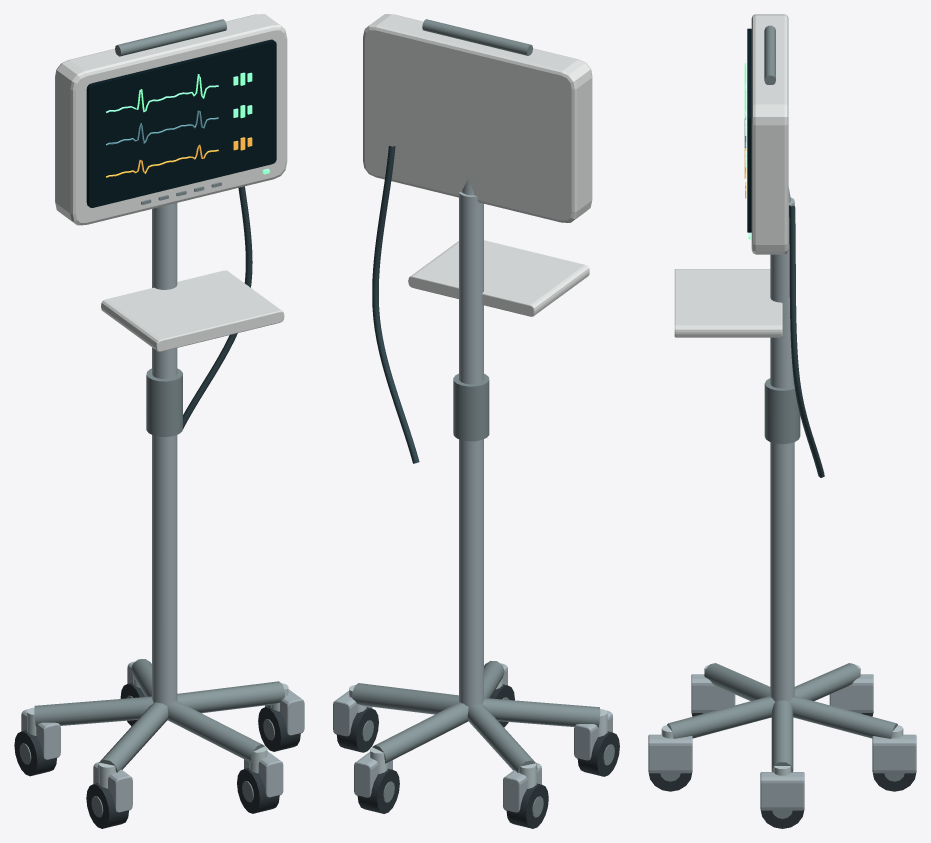
Rendered from monitor.glb.
3 views of the same model, side by side, from view 1: azimuth 30°, elevation 25°; view 2: azimuth 150°, elevation 25°; view 3: azimuth 270°, elevation 25° (orthographic). The views are drawn at different scales.
Parts seen in each view (by area): view 1: monitor-batch (×7), simulated-monitor-display, monitor; view 2: monitor-batch (×5), monitor; view 3: monitor-batch (×4), monitor, simulated-monitor-display.
Boxes of the visible parts, x1,y1,x2,y2 form: monitor-batch (×7): [14, 14, 304, 828]; simulated-monitor-display: [86, 39, 276, 207]; monitor: [106, 110, 252, 429]; monitor-batch (×5): [333, 14, 619, 828]; monitor: [372, 146, 419, 463]; monitor-batch (×4): [648, 14, 916, 828]; monitor: [744, 119, 824, 477]; simulated-monitor-display: [747, 28, 751, 232].
Bounding box in the file's own units: 0.537 × 1.62 × 0.5465.
